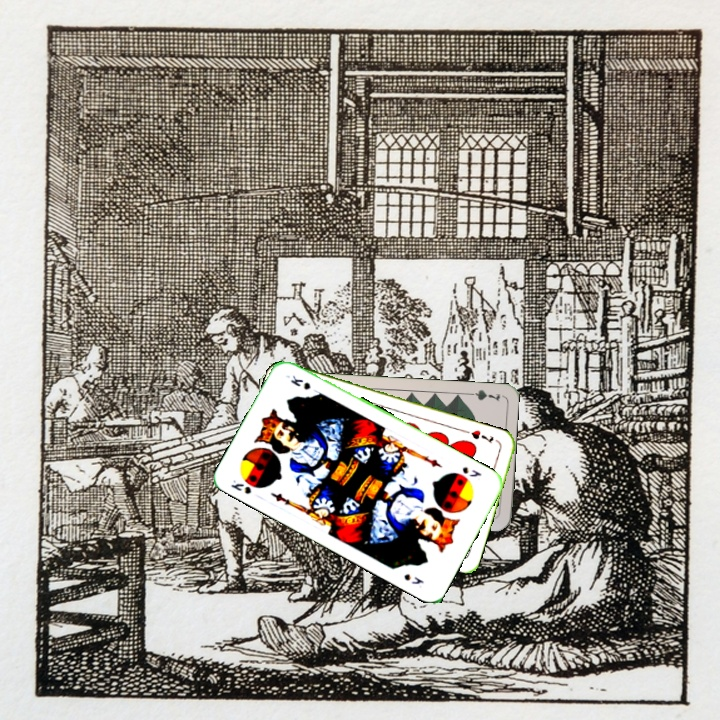G7: (462, 386, 503, 404)
H7: (467, 426, 496, 446)
SK: (227, 476, 254, 497), (458, 463, 484, 480)
